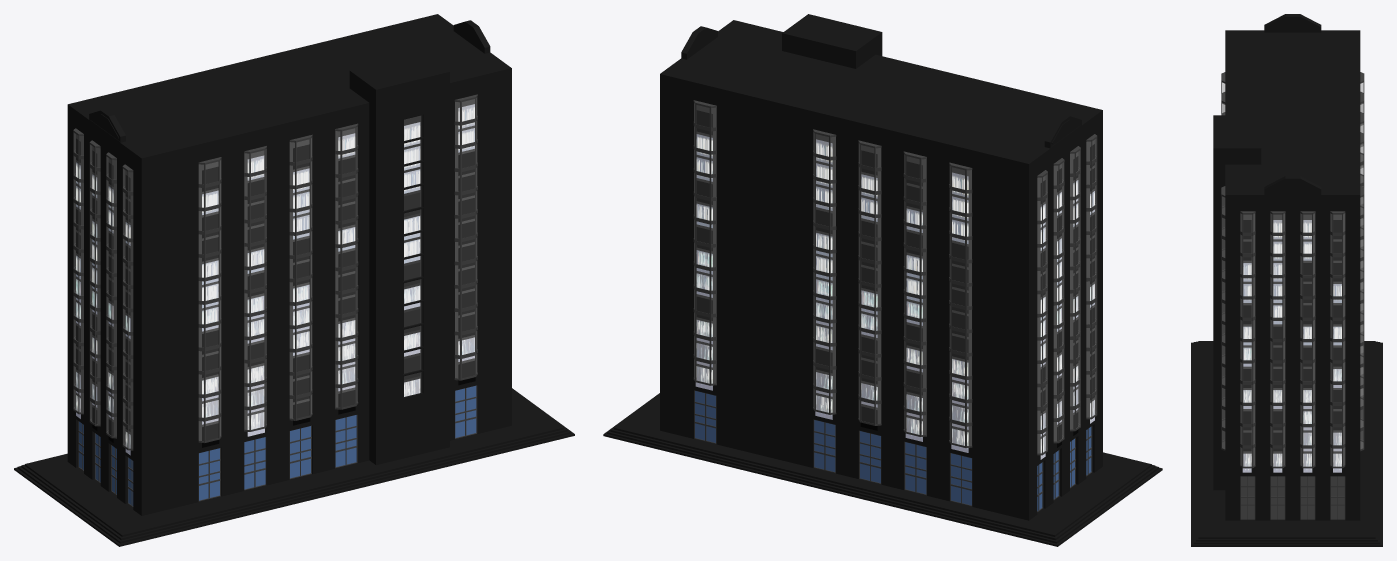
The model's file is house.gltf.
3 renders of one model, left to right at view 1: azimuth 30°, elevation 25°; view 2: azimuth 150°, elevation 25°; view 3: azimuth 270°, elevation 25°, orthographic. The views are drawn at different scales.
Parts seen in each view (by area): view 1: 04.Skys05Plane.001; view 2: 04.Skys05Plane.001; view 3: 04.Skys05Plane.001.
Part boxes in pixels (x1,y1,x2,y2): 04.Skys05Plane.001: [14, 14, 574, 546]; 04.Skys05Plane.001: [603, 14, 1162, 546]; 04.Skys05Plane.001: [1191, 14, 1382, 546].
Bounding box in the file's own units: 9.99 × 8.02 × 4.
